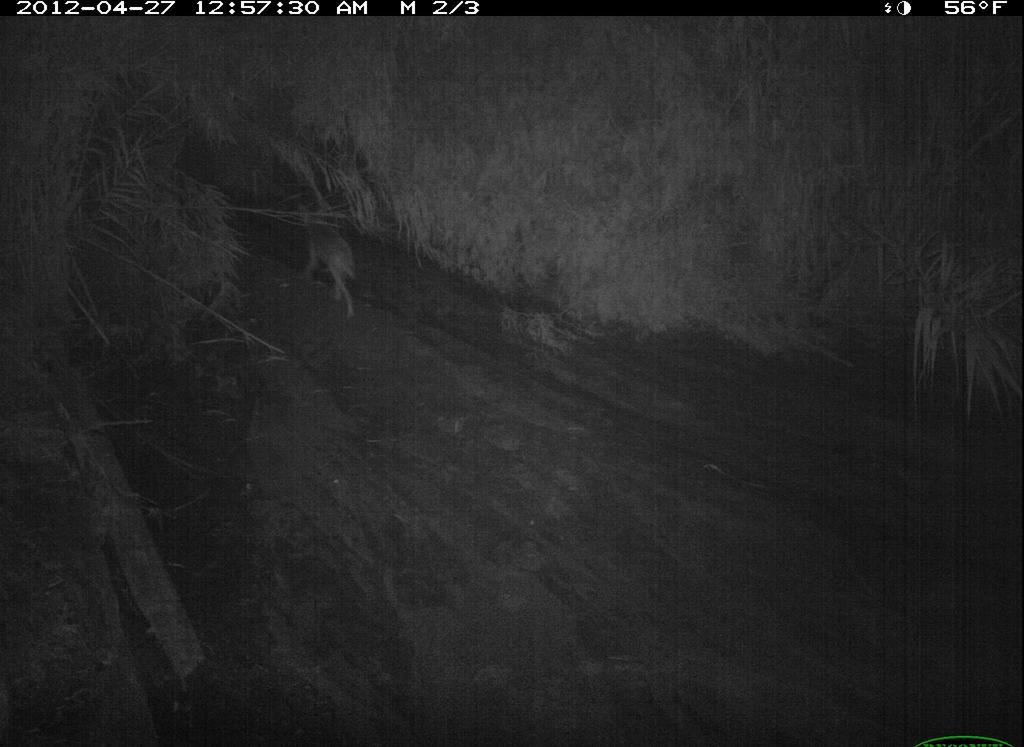coyote: (590, 401, 726, 651)
